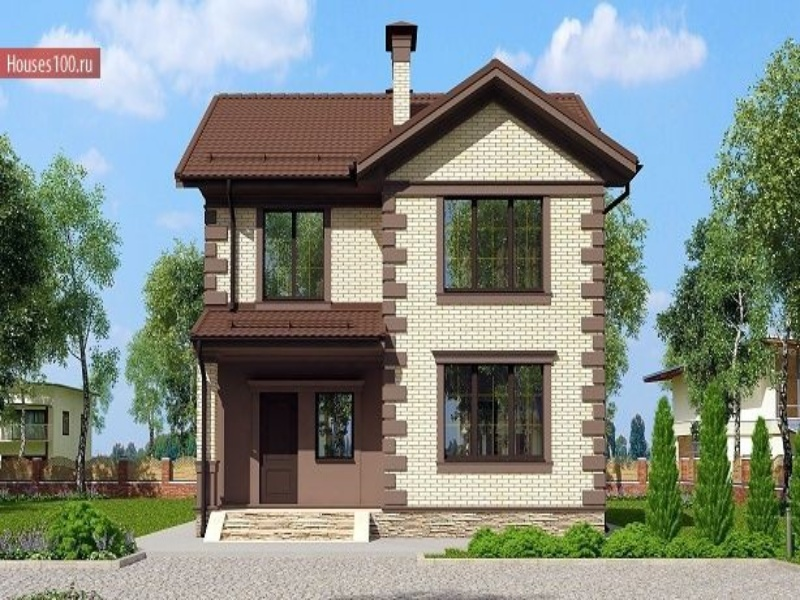window: (442, 359, 550, 467), (437, 199, 551, 299), (258, 205, 331, 305)
